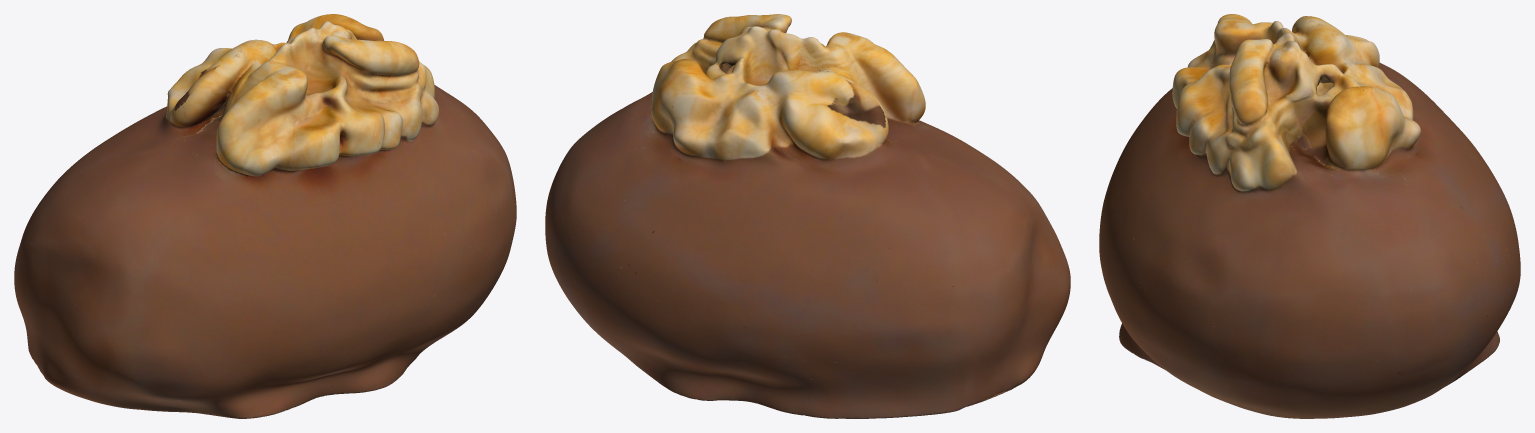
The model's file is selou-caramel.glb.
The picture shows the model from 3 angles, left to right: view 1: azimuth 30°, elevation 25°; view 2: azimuth 150°, elevation 25°; view 3: azimuth 270°, elevation 25°; orthographic projection. The views are drawn at different scales.
Size of the model in its own units: 2 by 1.24 by 1.5.
Materials: 1 (1 with a texture image).
